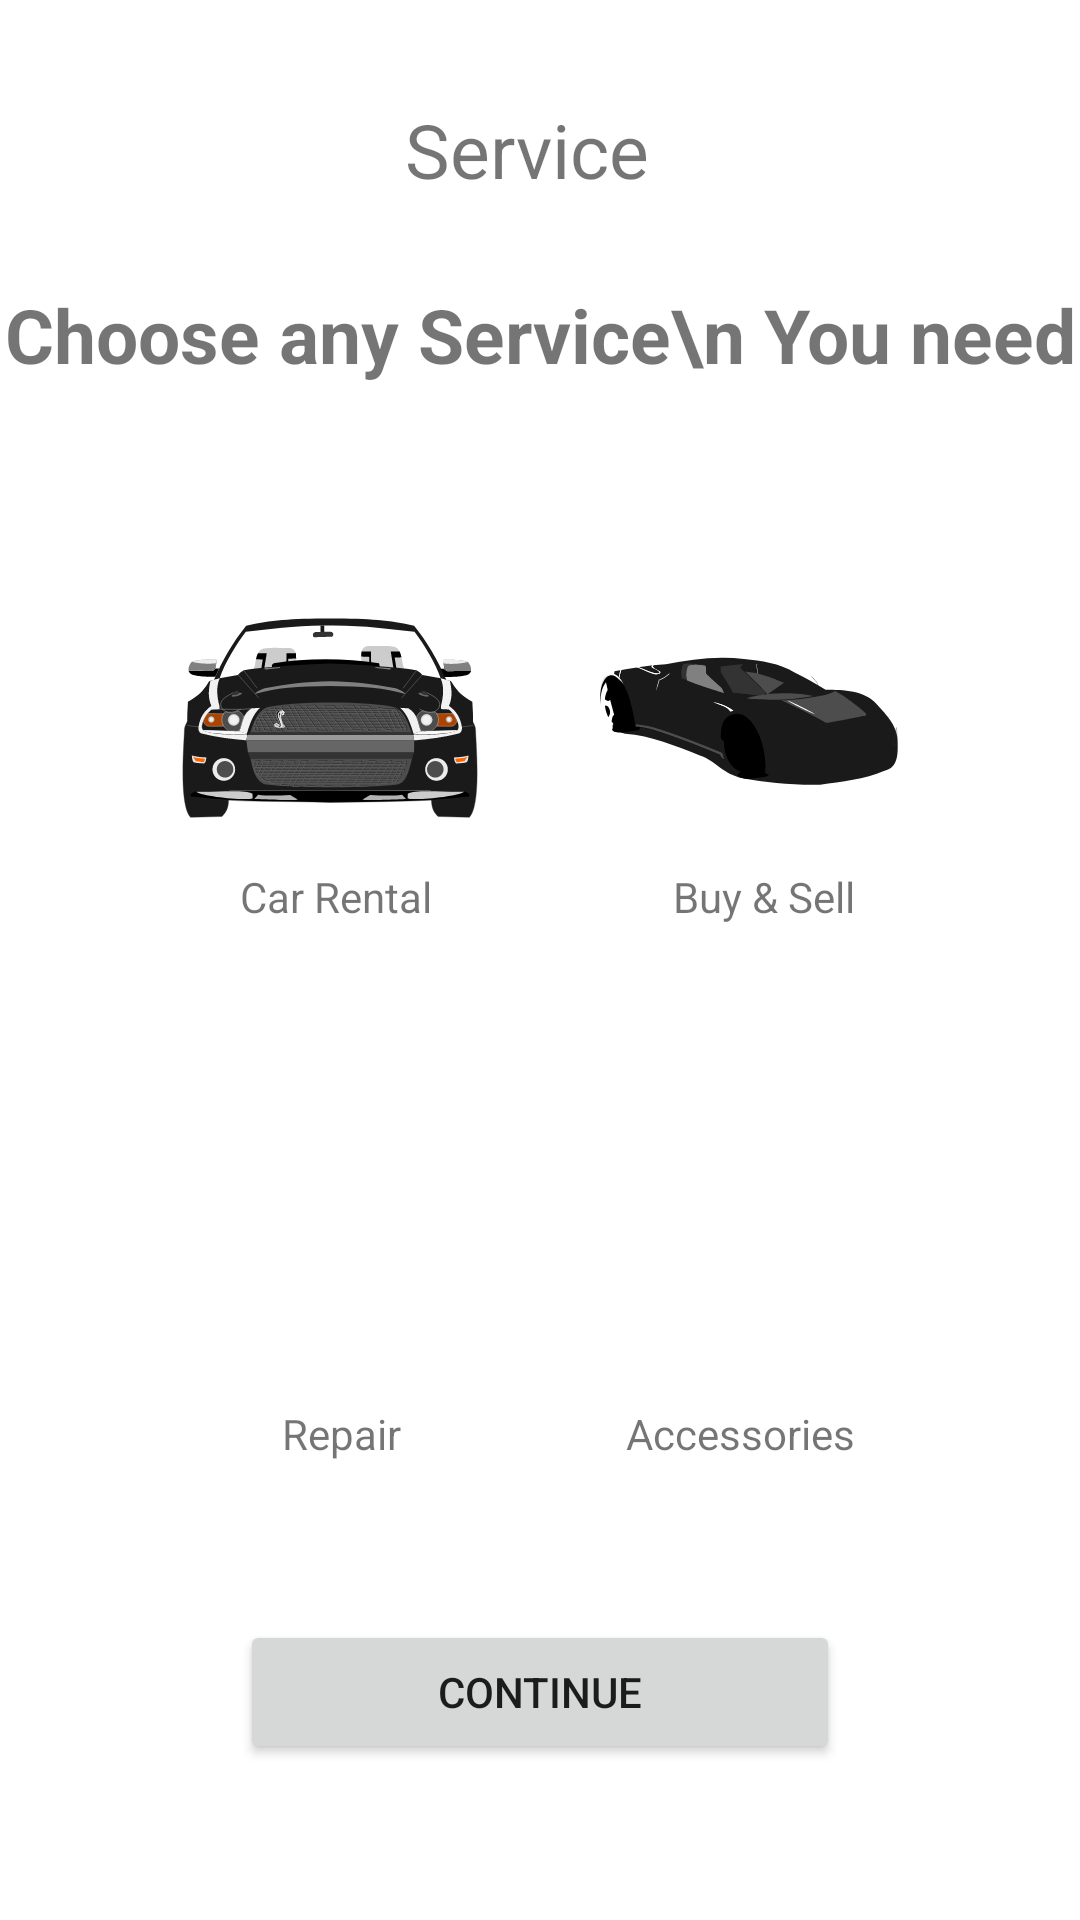

Where to tap for icons on this 1080 x 1920 app screen, as (x=x, y=y):
fine car: (x=330, y=718)
